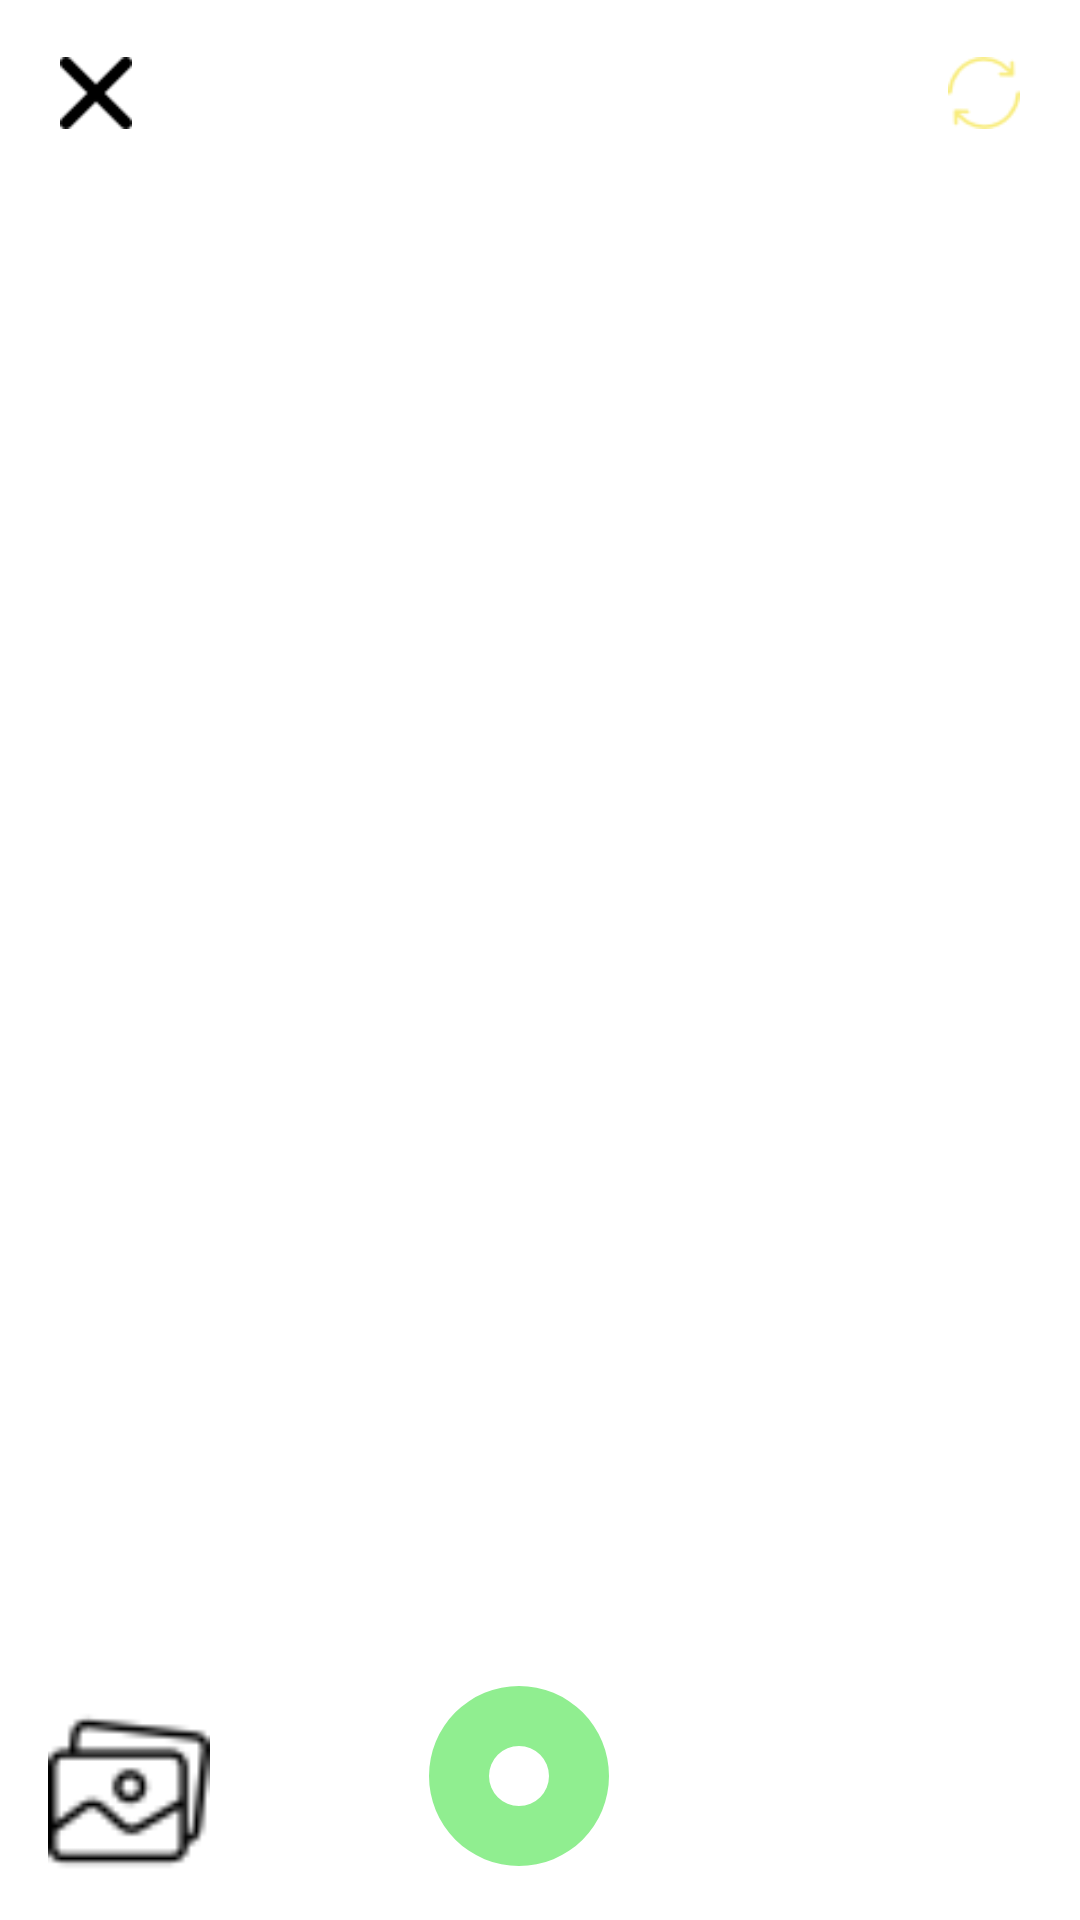

Icons on this 1080px×1920px Android screen, each with its box as bbox(x1, y1, x2, y2):
close camera: bbox(60, 57, 132, 129)
flip camera: bbox(948, 57, 1020, 129)
gallery: bbox(48, 1718, 210, 1865)
